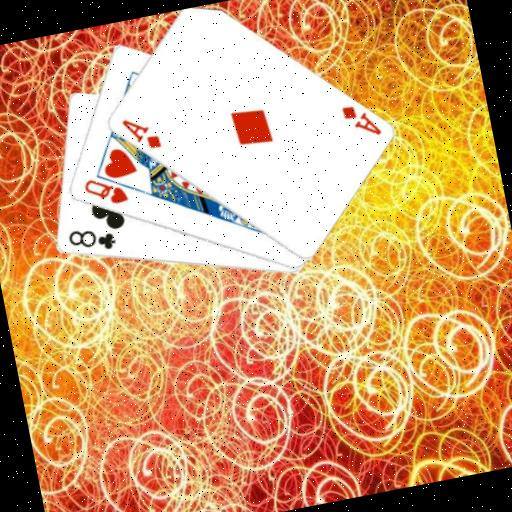8C: (64, 220, 119, 259)
AD: (117, 110, 164, 157), (337, 97, 384, 143)
QH: (79, 170, 131, 212)
